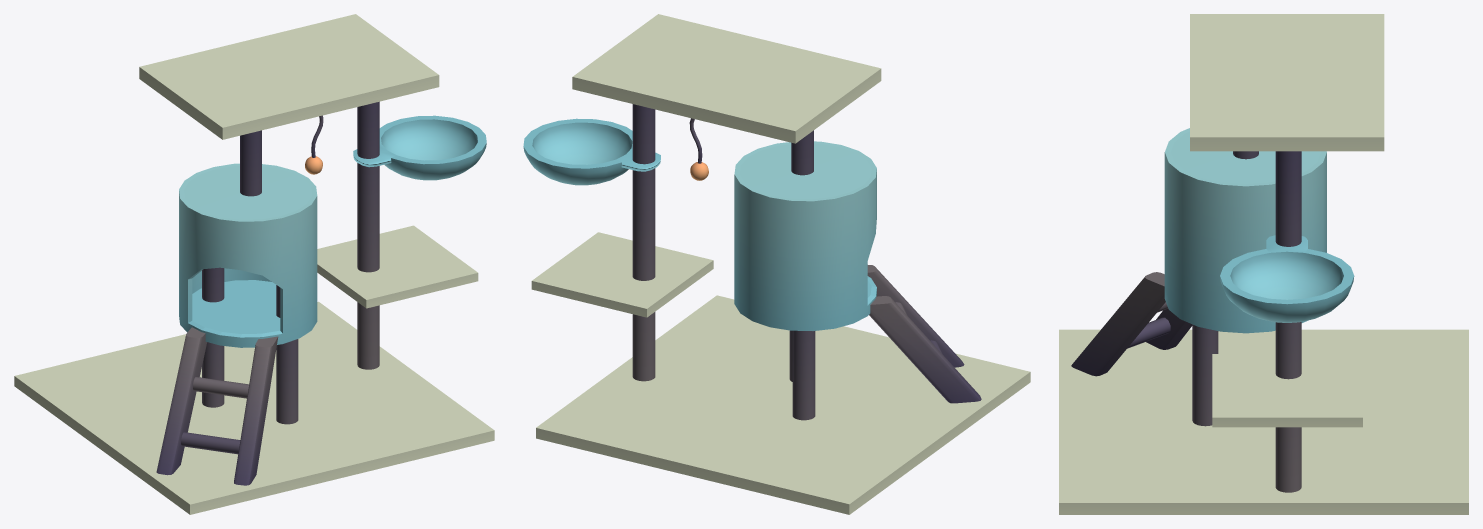
The model's file is PR_CatTree.fbx.
3 renders of one model, left to right at view 1: azimuth 30°, elevation 25°; view 2: azimuth 150°, elevation 25°; view 3: azimuth 270°, elevation 25°, orthographic. The views are drawn at different scales.
Visible parts, largest first — view 1: PR_CatTree; view 2: PR_CatTree; view 3: PR_CatTree.
Part boxes in pixels (left/top/right/bottom): PR_CatTree: left=14, top=14, right=494, bottom=514; PR_CatTree: left=523, top=14, right=1030, bottom=514; PR_CatTree: left=1059, top=14, right=1468, bottom=514.
Bounding box in the file's own units: 181 × 145 × 142.
